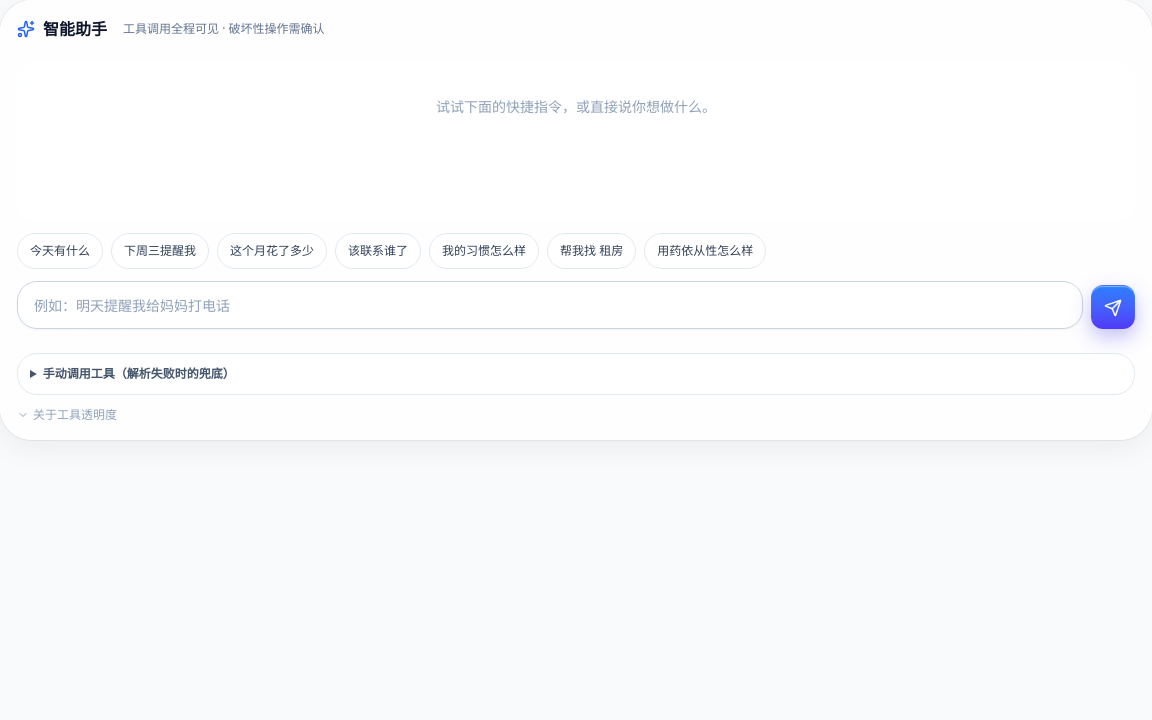
Test case: AssistantPanel (checkbox 109) › renders the confirm-required card with the backend preview verbatim and never auto-executes
This screenshot has width=1152, height=720.
In the field with test id "assistant-input": (550,305) top-left (17, 281), bottom-right (1083, 329), type "删除事件 42"
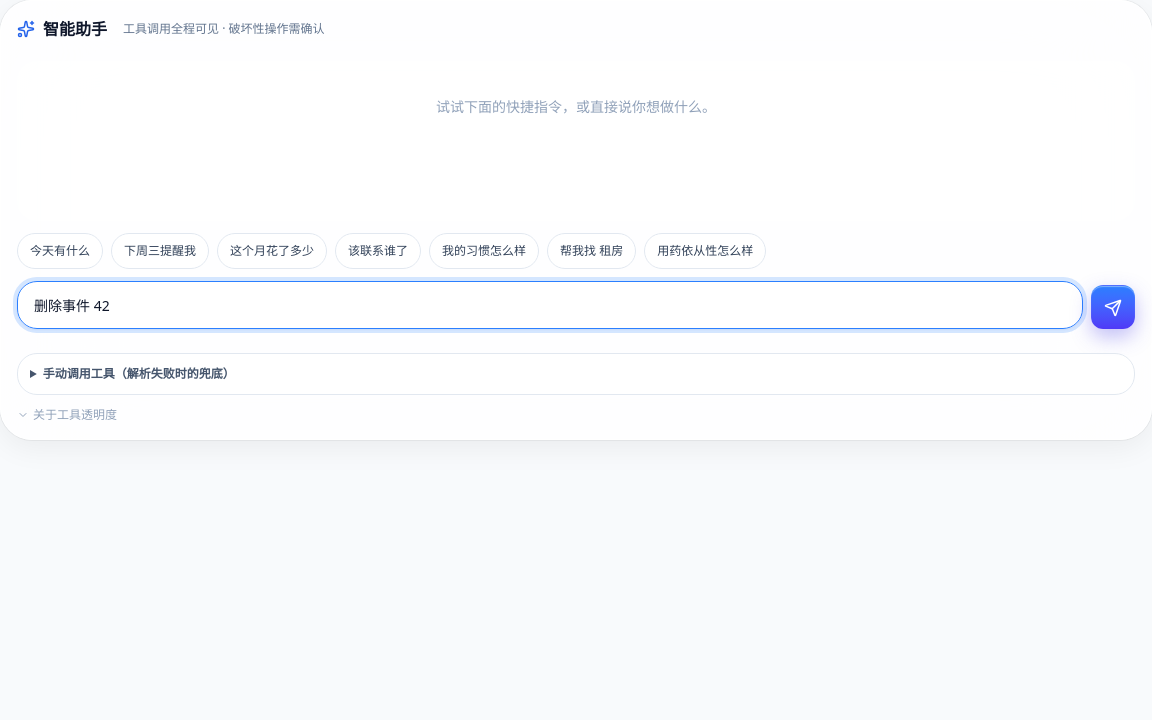
Click the button with test id "assistant-submit": (1113,307) top-left (1091, 285), bottom-right (1135, 329)
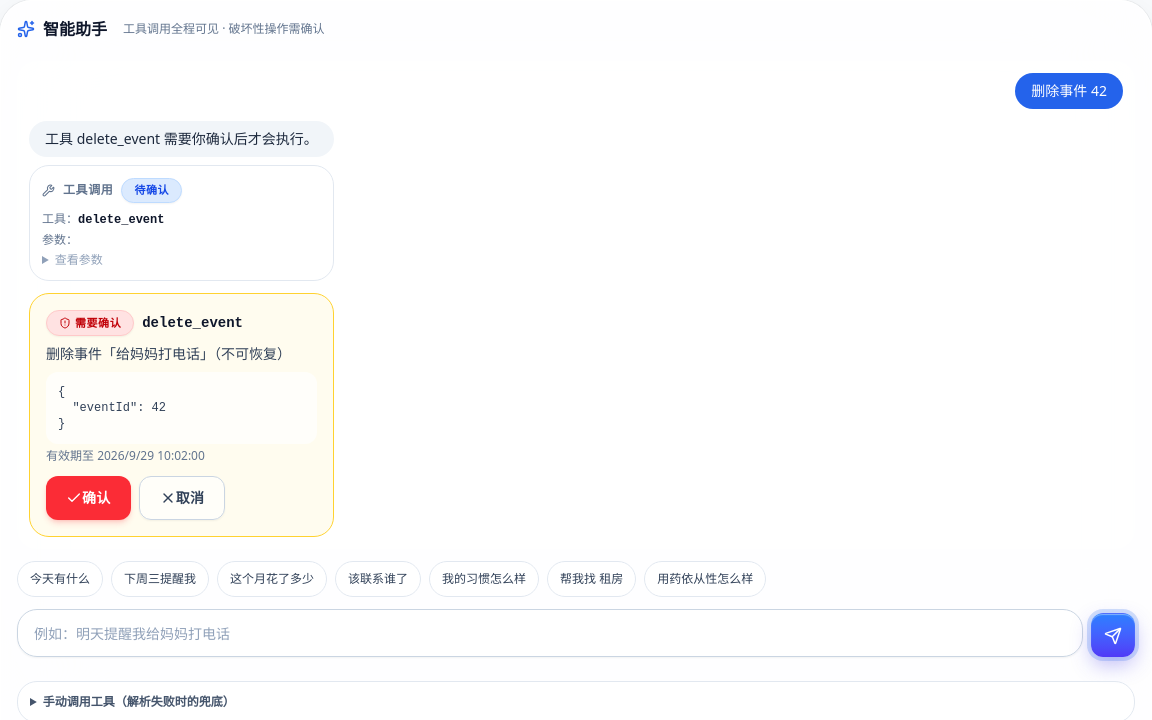
Check: the element with test id "assistant-confirmation" is shown, box top-left (29, 293), bottom-right (334, 537)
Check: the text with test id "assistant-confirmation-tool" reads "delete_event", box top-left (142, 315), bottom-right (243, 331)
Check: the text with test id "assistant-confirmation-description" reads "删除事件「给妈妈打电话」（不可恢复）", box top-left (46, 344), bottom-right (291, 363)
